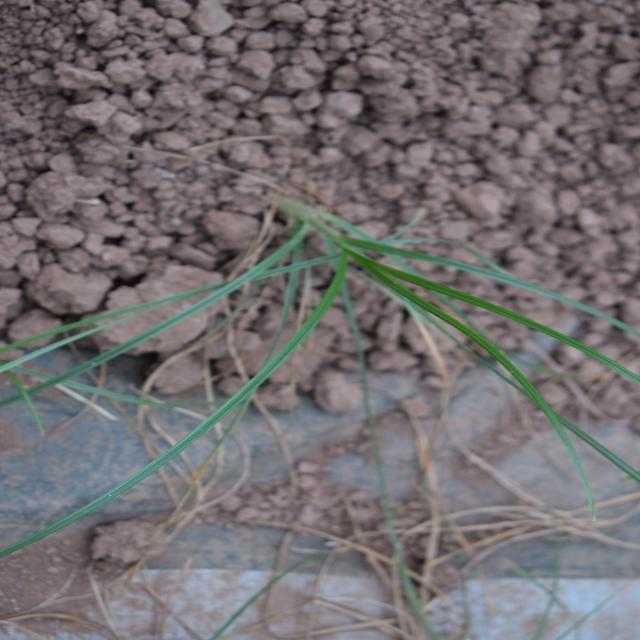sedge: (186, 0, 505, 577)
